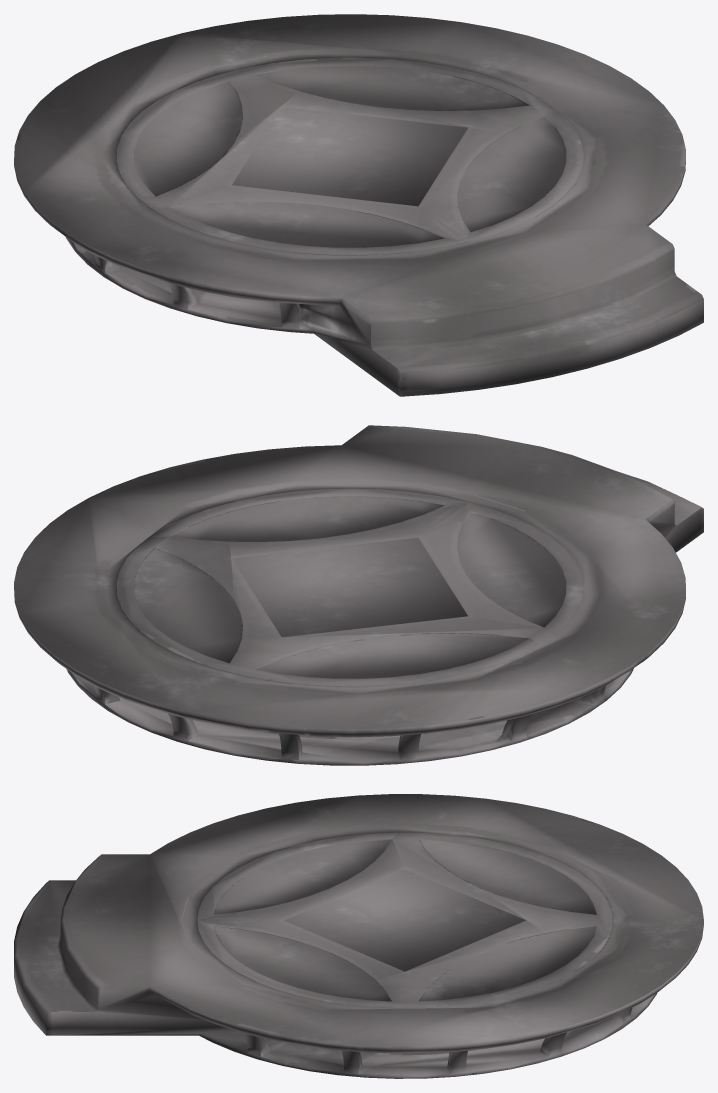
The model's file is Platform comms4.glb.
3 renders of one model, top to bottom at view 1: azimuth 30°, elevation 25°; view 2: azimuth 150°, elevation 25°; view 3: azimuth 270°, elevation 25°, orthographic. The views are drawn at different scales.
Parts seen in each view (by area): view 1: Platform comms; view 2: Platform comms; view 3: Platform comms.
Part boxes in pixels (x1,y1,x2,y2): Platform comms: (14, 14, 703, 396); Platform comms: (14, 425, 703, 765); Platform comms: (14, 794, 703, 1078).
Size of the model in its own units: 22.12 by 2.02 by 25.55.
1 material, 1 textured.
